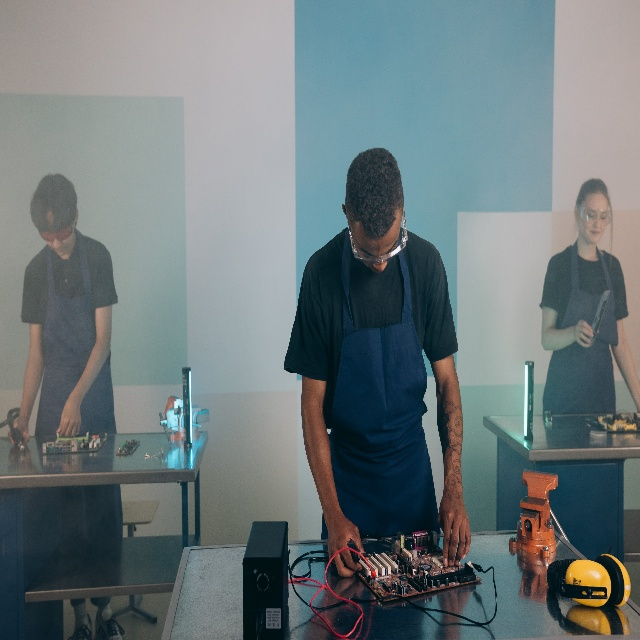Gafas: (345, 216, 408, 267), (577, 199, 611, 232), (38, 217, 75, 241)
Sin_guantes: (436, 495, 473, 566), (326, 516, 365, 576), (58, 397, 81, 436), (7, 416, 31, 446), (573, 317, 595, 345)
